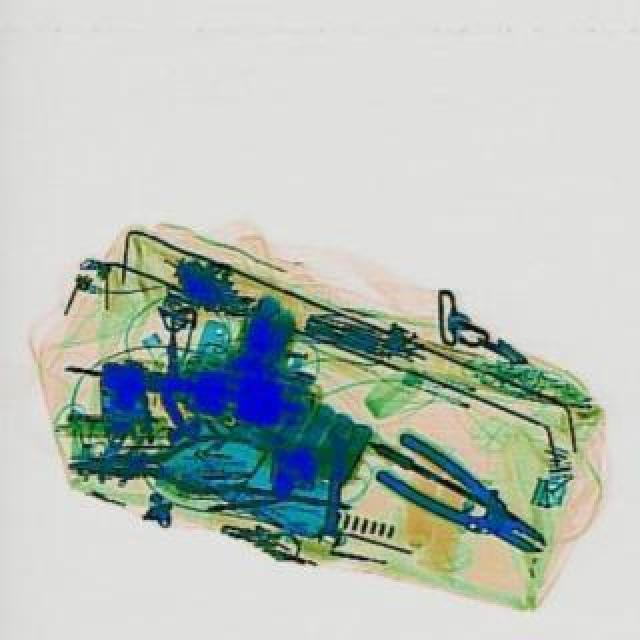scissors: (310, 420, 358, 546)
wrench: (370, 428, 562, 568), (68, 432, 264, 488)
